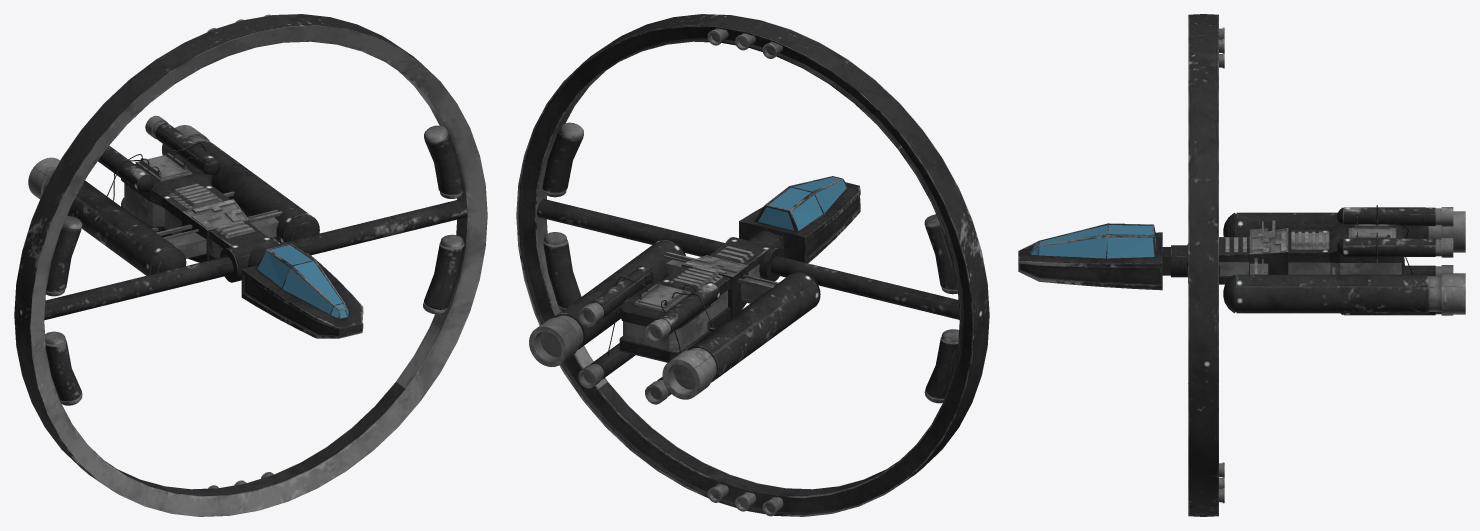
File: unipersonal_space_vessel.glb
The picture shows the model from 3 angles, left to right: view 1: azimuth 30°, elevation 25°; view 2: azimuth 150°, elevation 25°; view 3: azimuth 270°, elevation 25°; orthographic projection. The views are drawn at different scales.
Visible parts, largest first — view 1: Cylinder.001; view 2: Cylinder.001; view 3: Cylinder.001.
Part boxes in pixels (x1,y1,x2,y2): Cylinder.001: (14,14,487,516); Cylinder.001: (516,14,989,516); Cylinder.001: (1018,14,1465,516).
Bounding box in the file's own units: 550 × 550 × 488.
Materials: 1 (1 with a texture image).
